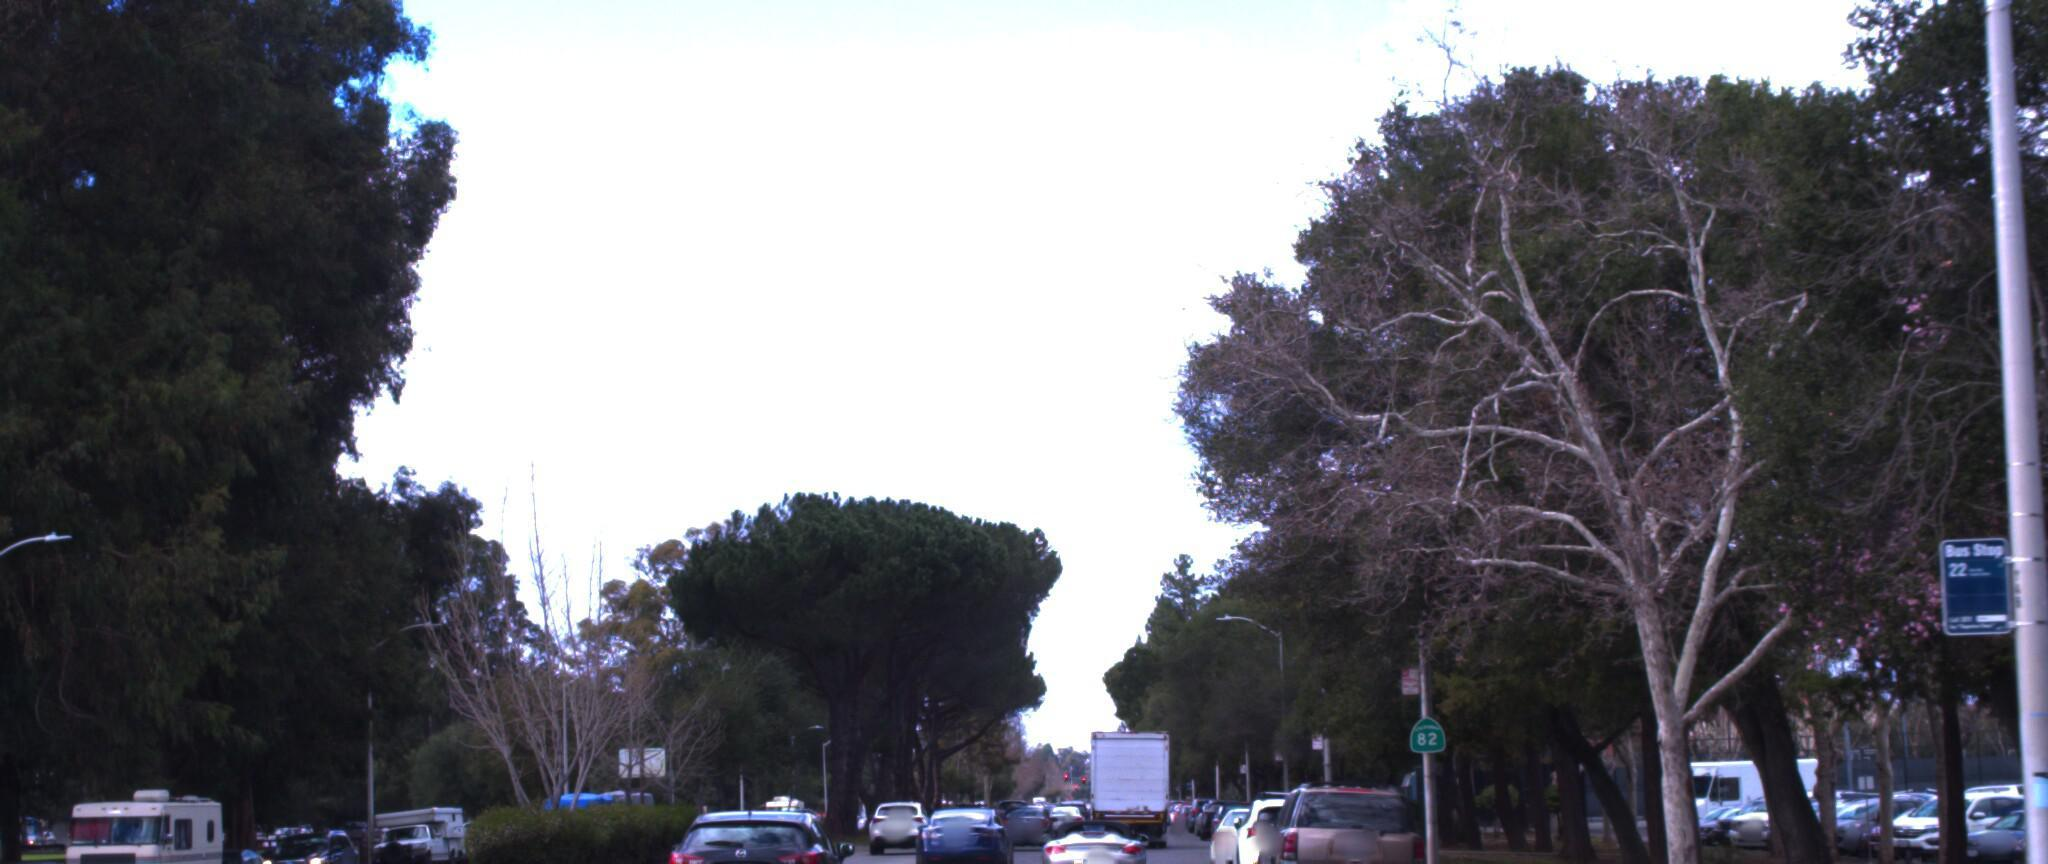car: (1234, 753, 1435, 864), (652, 783, 865, 864), (1219, 765, 1353, 864), (1023, 773, 1148, 864), (905, 780, 1012, 855), (0, 829, 95, 864), (0, 821, 5, 864)
other_vehicle: (52, 764, 232, 864)
